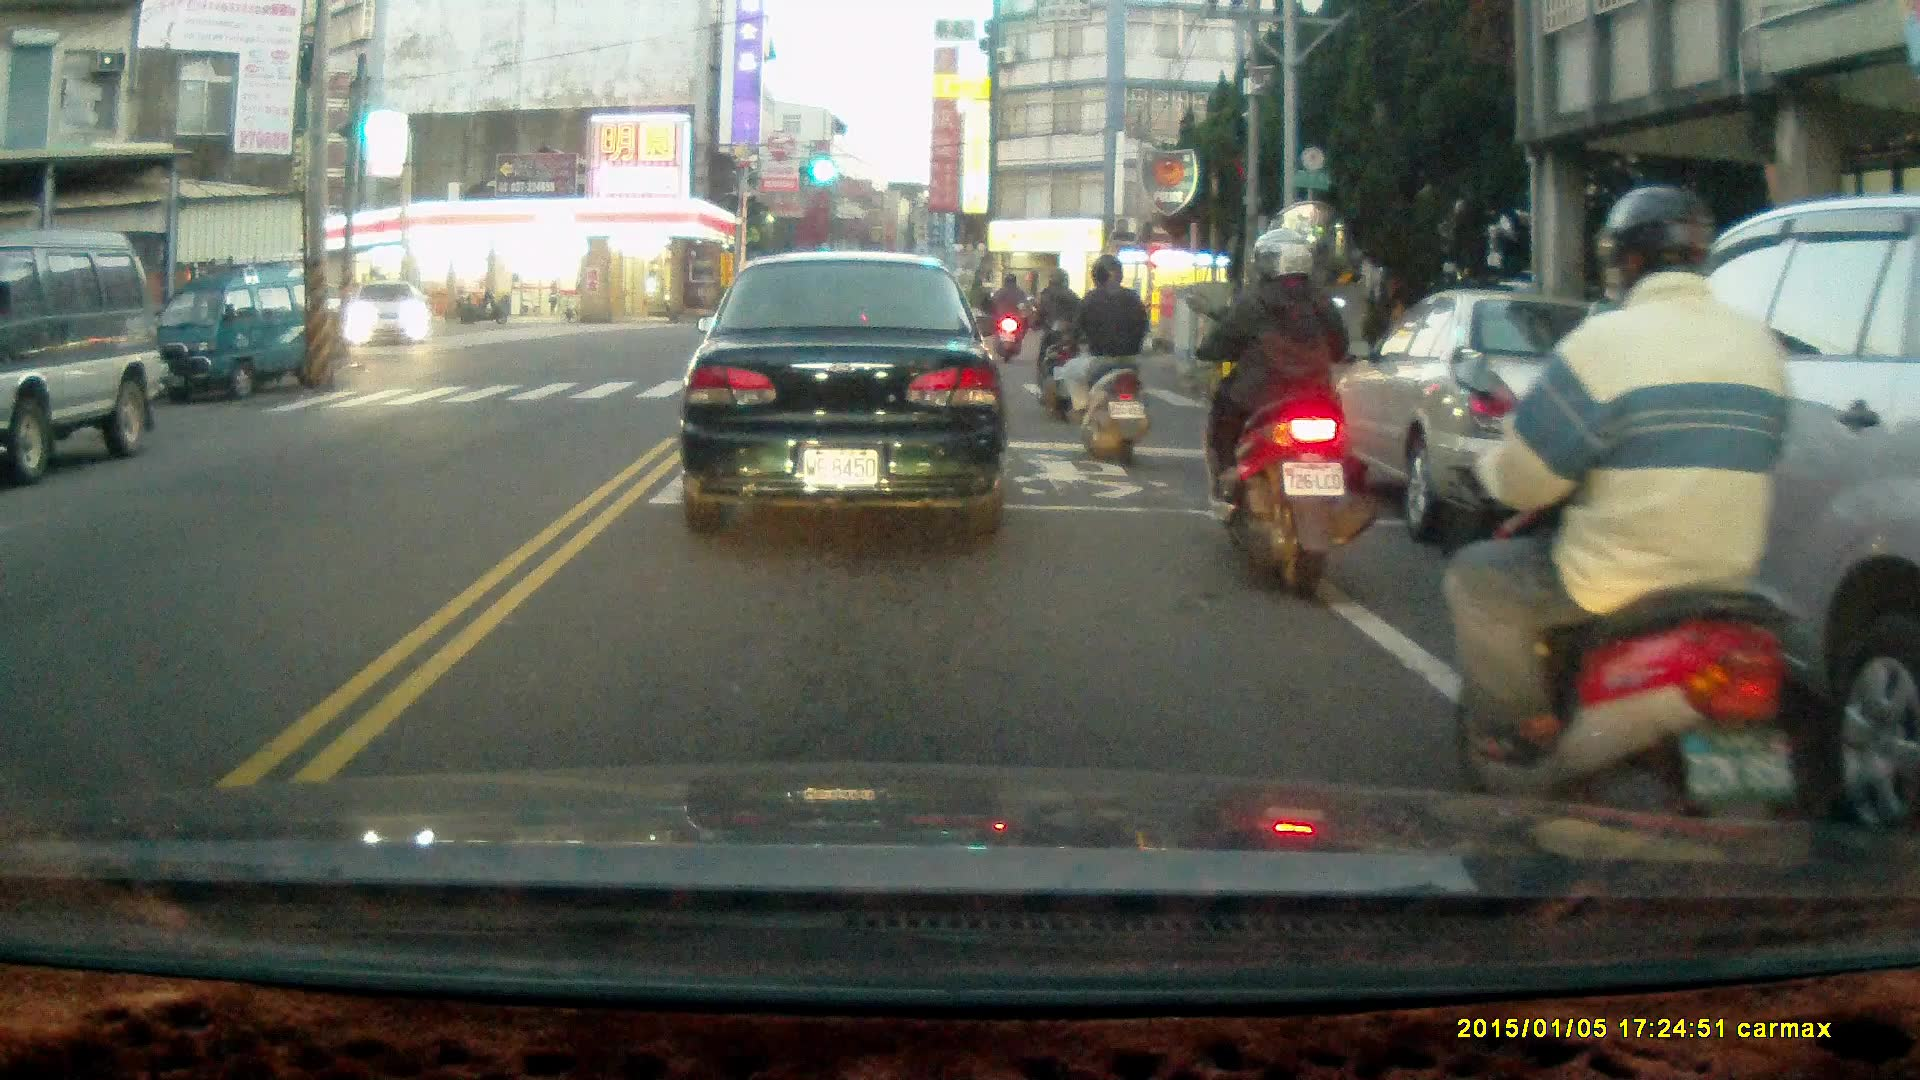rider: (1439, 184, 1813, 891), (1193, 225, 1375, 604), (1049, 252, 1147, 470), (1018, 268, 1089, 421), (989, 275, 1031, 364)
vehicle: (1528, 195, 1920, 842), (1321, 290, 1708, 544), (680, 251, 1017, 540), (1, 234, 154, 474), (147, 263, 342, 406), (347, 284, 434, 353)
